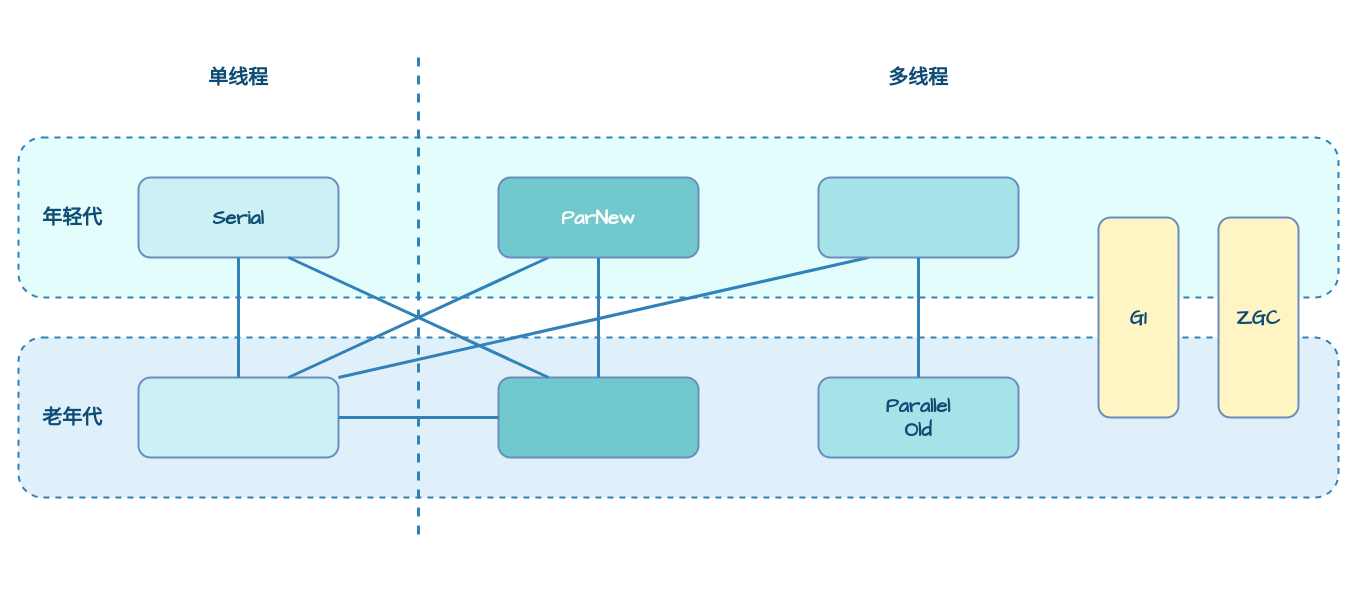
This 1356x594 diagram has some shape labels left out. The centre of each missing label's shape, as x and y in pixels:
CMS: [598,417]
Parallel Scavenge: [918,217]
Serial Old: [238,417]
